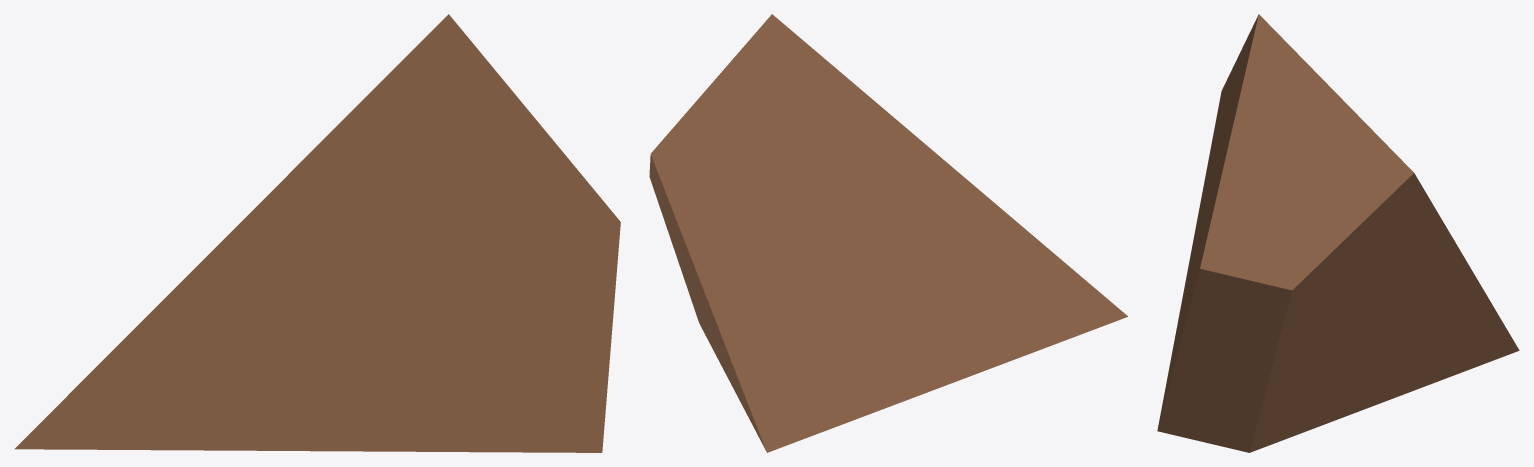
File: WoodCellCube_003_cell_031.fbx
The picture shows the model from 3 angles, left to right: view 1: azimuth 30°, elevation 25°; view 2: azimuth 150°, elevation 25°; view 3: azimuth 270°, elevation 25°; orthographic projection. The views are drawn at different scales.
Parts seen in each view (by area): view 1: WoodCellCube_003_cell_031; view 2: WoodCellCube_003_cell_031; view 3: WoodCellCube_003_cell_031.
Part boxes in pixels (bbox=[...]): WoodCellCube_003_cell_031: bbox=[14, 14, 620, 452]; WoodCellCube_003_cell_031: bbox=[649, 14, 1127, 452]; WoodCellCube_003_cell_031: bbox=[1157, 14, 1519, 452].
Bounding box in the file's own units: 0.263 × 0.3182 × 0.4488.
Materials: 1 (1 with a texture image).
